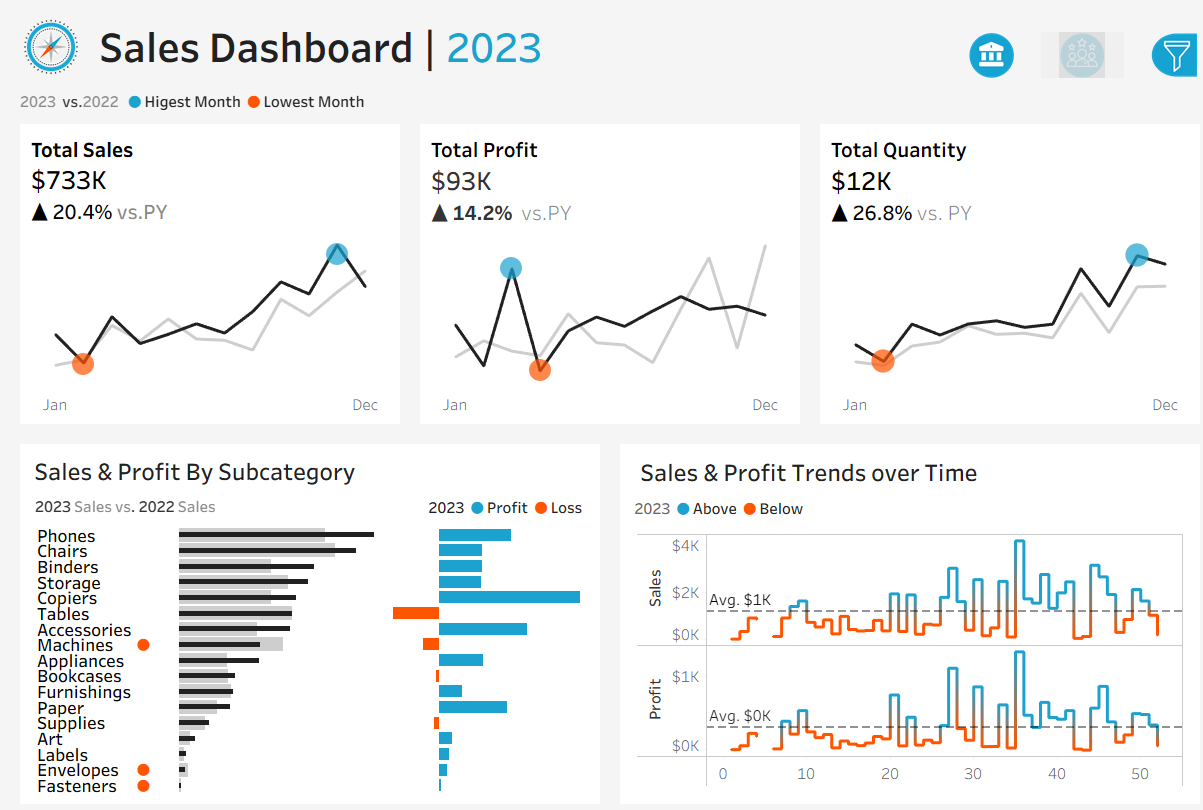

This screenshot's page, from the dashboard's own definition file:
{"tool":"tableau","page":{"name":"Sales Dashboard","canvas":[1200,800],"ordinal":1},"visuals":[{"type":"image","param":"Image/Icon - Logo.png","box":[0,0,82,65]},{"type":"text","box":[82,0,1118,65]},{"type":"dashboard-object","box":[935,14,92,54]},{"type":"dashboard-object","box":[1027,14,91,54]},{"type":"text","box":[941,31,241,40]},{"type":"worksheet","title":"Legend KPI","mark":"Automatic","box":[0,65,1200,45]},{"type":"parameter","param":"[Parameters].[Parameter 1]","box":[941,71,241,56]},{"type":"worksheet","title":"KPI Sales","mark":"Automatic","rows":["Calculation_698339432659533824"],"cols":["Order Date"],"box":[0,110,400,310]},{"type":"worksheet","title":"KPI Profit","mark":"Line","rows":["Calculation_1227793864123015173"],"cols":["Order Date"],"box":[400,110,400,310]},{"type":"worksheet","title":"KPI Quantity","mark":"Automatic","rows":["Min/Max Profit (copy)_1227793864146927630"],"cols":["Order Date"],"box":[800,110,400,310]},{"type":"blank","box":[941,127,241,41]},{"type":"text","box":[941,168,241,33]},{"type":"filter","title":"KPI Sales","param":"[federated.0ych6l61m37cuh11uxli60rynfbu].[none:Category:nk]","box":[941,201,241,61]},{"type":"filter","title":"KPI Sales","param":"[federated.0ych6l61m37cuh11uxli60rynfbu].[none:Sub-Category:nk]","box":[941,262,241,61]},{"type":"text","box":[941,376,241,33]},{"type":"filter","title":"KPI Sales","param":"[federated.0ych6l61m37cuh11uxli60rynfbu].[none:Region:nk]","box":[941,409,241,61]},{"type":"text","box":[17,437,566,40]},{"type":"text","box":[617,437,566,41]},{"type":"filter","title":"KPI Sales","param":"[federated.0ych6l61m37cuh11uxli60rynfbu].[none:State:nk]","box":[941,470,241,61]},{"type":"worksheet","title":"Legend Subcategory","mark":"Automatic","box":[17,477,394,32]},{"type":"text","box":[411,477,172,32]},{"type":"text","box":[617,478,566,32]},{"type":"worksheet","title":"Subcategories Comparsion","mark":"Bar","rows":["Sub-Category","Calculation_1227793864157175825"],"cols":["CY Sales (copy)_264867968073916417","Calculation_264867968073265152","Calculation_1227793864117055490"],"box":[17,509,566,273.9]},{"type":"worksheet","title":"Weekly Trends","mark":"Automatic","rows":["Calculation_264867968073265152","Calculation_1227793864117055490"],"cols":["Order Date"],"box":[617,510,566,273]},{"type":"filter","title":"KPI Sales","param":"[federated.0ych6l61m37cuh11uxli60rynfbu].[none:City:nk]","box":[941,531,241,61]}]}

Visuals, with their boxes in screenshot pixels (x1, y1, x2, y2), scaled from the page's 1200x800 canvas onto the 1203x810 screenshot:
image: x1=0 y1=0 x2=82 y2=66
text: x1=82 y1=0 x2=1202 y2=66
dashboard-object: x1=937 y1=14 x2=1030 y2=69
dashboard-object: x1=1030 y1=14 x2=1121 y2=69
text: x1=943 y1=31 x2=1185 y2=72
"Legend KPI" worksheet: x1=0 y1=66 x2=1202 y2=111
parameter: x1=943 y1=72 x2=1185 y2=129
"KPI Sales" worksheet: x1=0 y1=111 x2=401 y2=425
"KPI Profit" worksheet (Line marks): x1=401 y1=111 x2=802 y2=425
"KPI Quantity" worksheet: x1=802 y1=111 x2=1202 y2=425
blank: x1=943 y1=129 x2=1185 y2=170
text: x1=943 y1=170 x2=1185 y2=204
"KPI Sales" filter: x1=943 y1=204 x2=1185 y2=265
"KPI Sales" filter: x1=943 y1=265 x2=1185 y2=327
text: x1=943 y1=381 x2=1185 y2=414
"KPI Sales" filter: x1=943 y1=414 x2=1185 y2=476
text: x1=17 y1=442 x2=584 y2=483
text: x1=619 y1=442 x2=1186 y2=484
"KPI Sales" filter: x1=943 y1=476 x2=1185 y2=538
"Legend Subcategory" worksheet: x1=17 y1=483 x2=412 y2=515
text: x1=412 y1=483 x2=584 y2=515
text: x1=619 y1=484 x2=1186 y2=516
"Subcategories Comparsion" worksheet (Bar marks): x1=17 y1=515 x2=584 y2=793
"Weekly Trends" worksheet: x1=619 y1=516 x2=1186 y2=793
"KPI Sales" filter: x1=943 y1=538 x2=1185 y2=599
